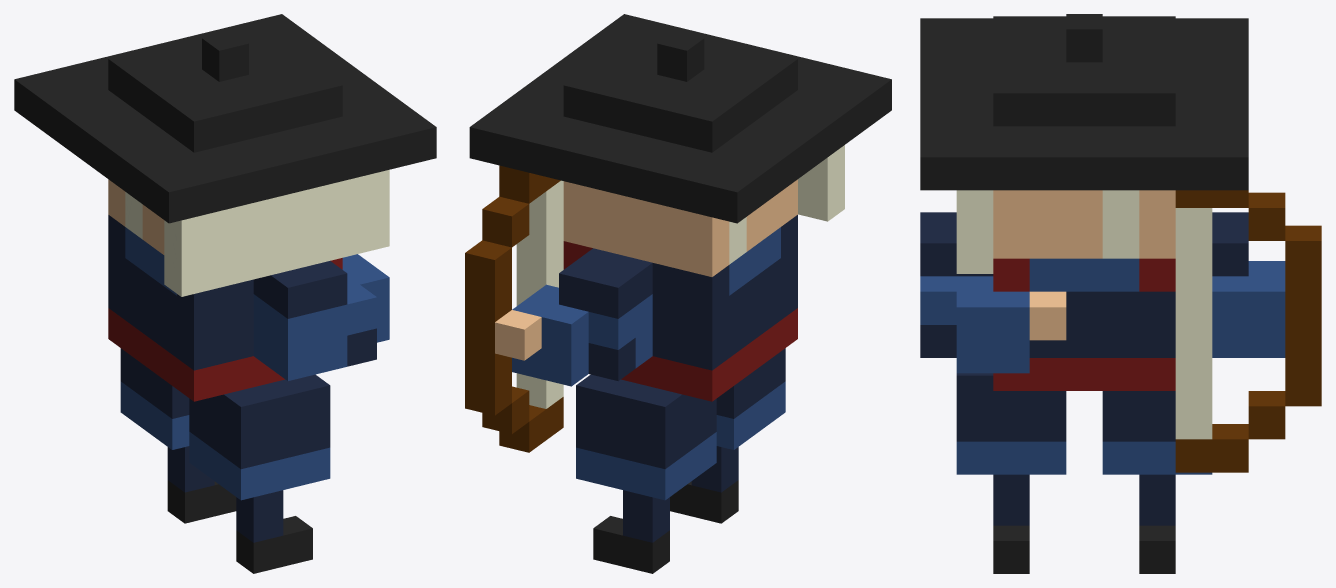
File: kyuhei.obj
3 renders of one model, left to right at view 1: azimuth 30°, elevation 25°; view 2: azimuth 150°, elevation 25°; view 3: azimuth 270°, elevation 25°, orthographic. The views are drawn at different scales.
Size of the model in its own units: 0.9 by 1.6 by 1.1.
1 material, 1 textured.
